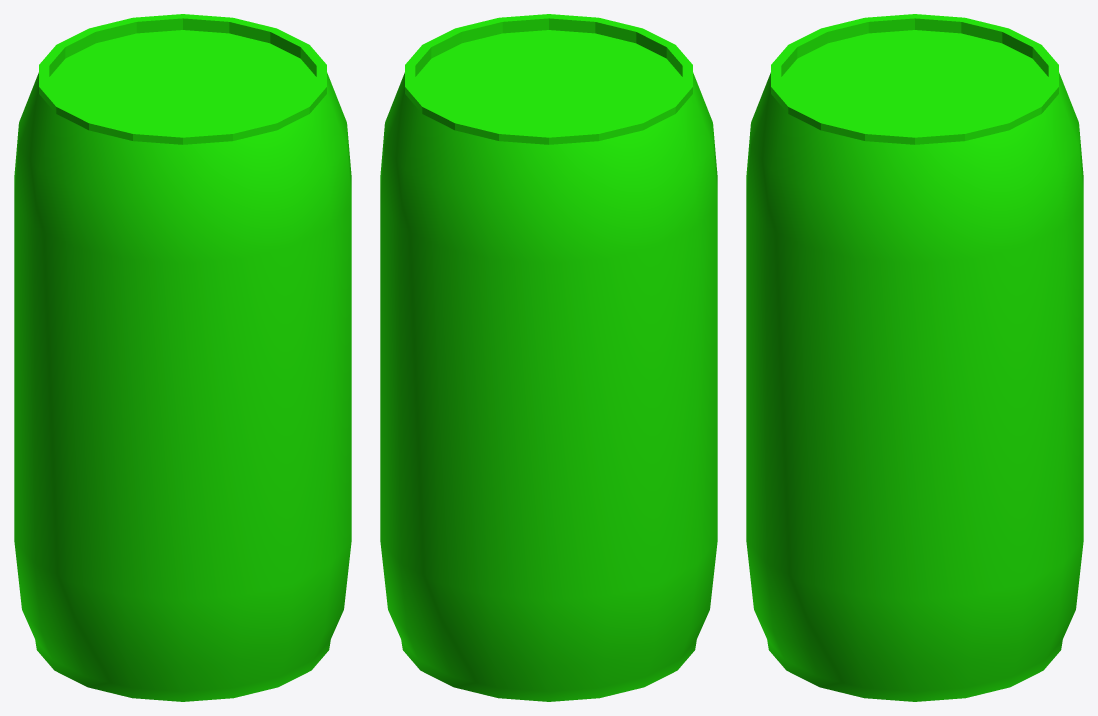
Rendered from umgebung_dose_1_low.FBX.
The picture shows the model from 3 angles, left to right: view 1: azimuth 30°, elevation 25°; view 2: azimuth 150°, elevation 25°; view 3: azimuth 270°, elevation 25°; orthographic projection.
Parts seen in each view (by area): view 1: o_dose_1_low; view 2: o_dose_1_low; view 3: o_dose_1_low.
Part boxes in pixels (x1,y1,x2,y2): o_dose_1_low: [14, 14, 351, 701]; o_dose_1_low: [380, 14, 717, 701]; o_dose_1_low: [746, 14, 1083, 701].
Bounding box in the file's own units: 8.87 × 16.09 × 8.73.
